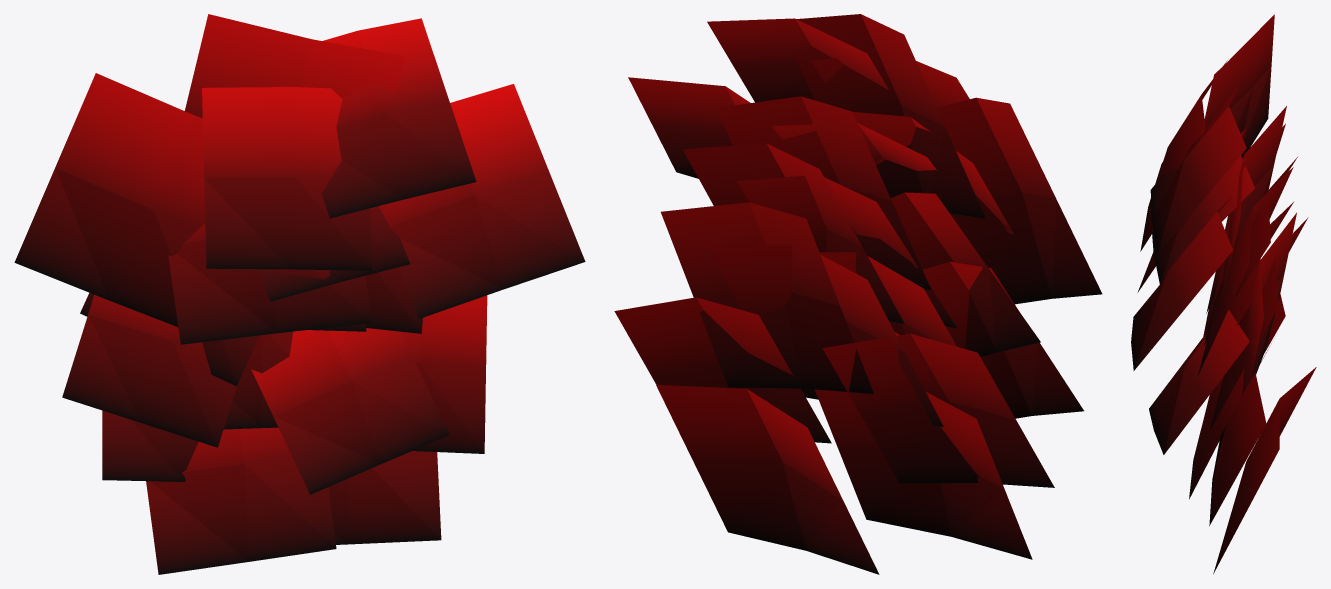
Rendered from Ivy05.fbx.
3 renders of one model, left to right at view 1: azimuth 30°, elevation 25°; view 2: azimuth 150°, elevation 25°; view 3: azimuth 270°, elevation 25°, orthographic. The views are drawn at different scales.
Visible parts, largest first — view 1: transform26; view 2: transform26; view 3: transform26.
Boxes of the visible parts, x1=… form: transform26: x1=14, y1=14, x2=585, y2=574; transform26: x1=614, y1=14, x2=1102, y2=574; transform26: x1=1131, y1=14, x2=1316, y2=573.
Size of the model in its own units: 163 by 175 by 63.58.
